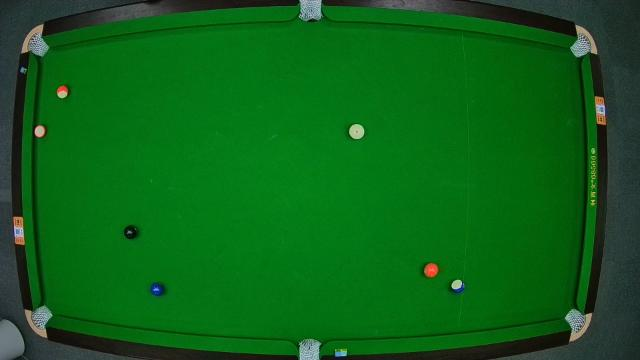bag1: (29, 35, 47, 53)
bag2: (300, 0, 322, 20)
bag3: (573, 38, 593, 56)
bag4: (31, 306, 51, 328)
bag5: (298, 342, 322, 360)
bag6: (567, 312, 587, 332)
ball0: (350, 124, 366, 140)
ball10: (452, 277, 466, 293)
ball12: (35, 126, 47, 138)
ball13: (56, 86, 68, 98)
ball2: (150, 282, 166, 298)
ball5: (424, 262, 440, 278)
ball8: (124, 224, 138, 240)
